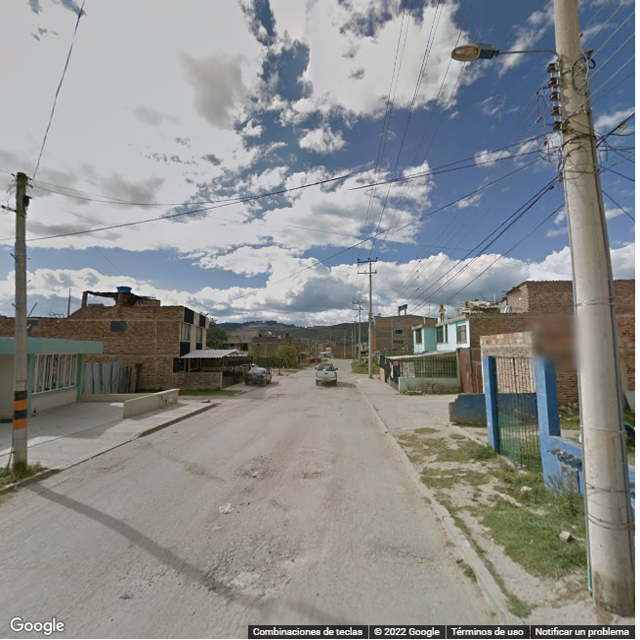D00: (221, 593, 269, 631)
D40: (185, 520, 334, 589), (365, 535, 437, 568)
